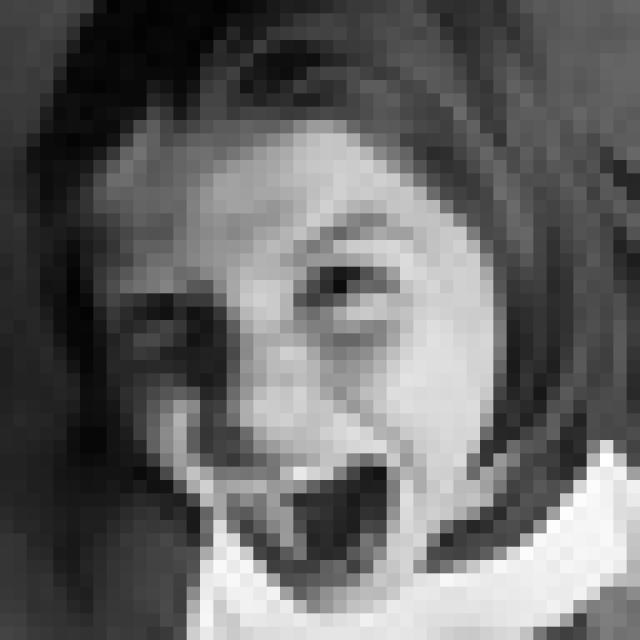angry: (106, 204, 449, 607)
